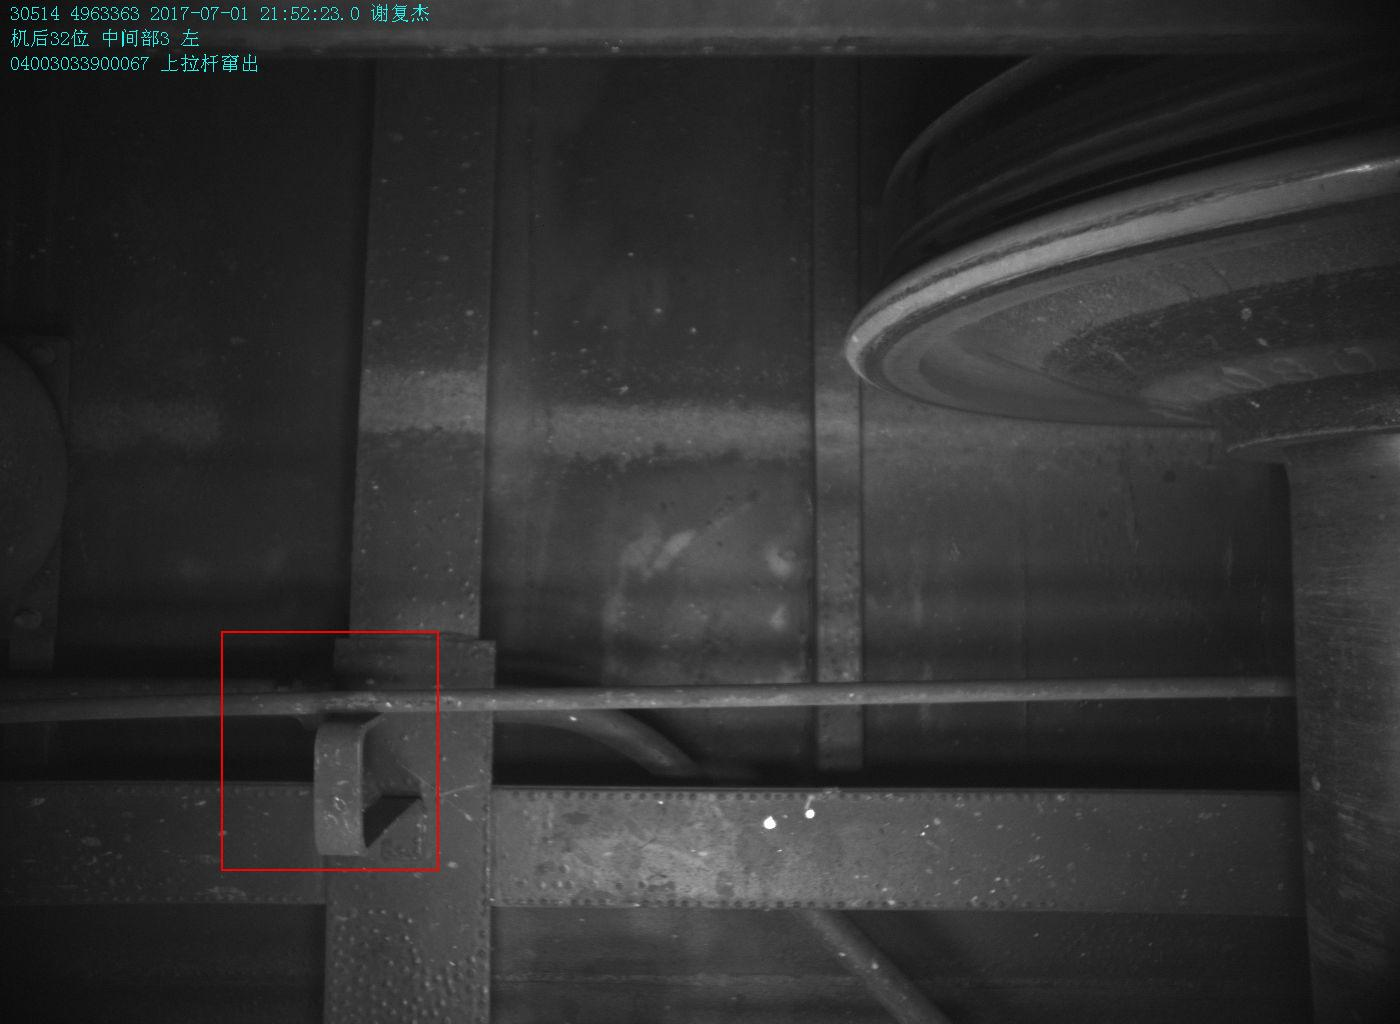upper lever: (311, 688, 422, 856)
